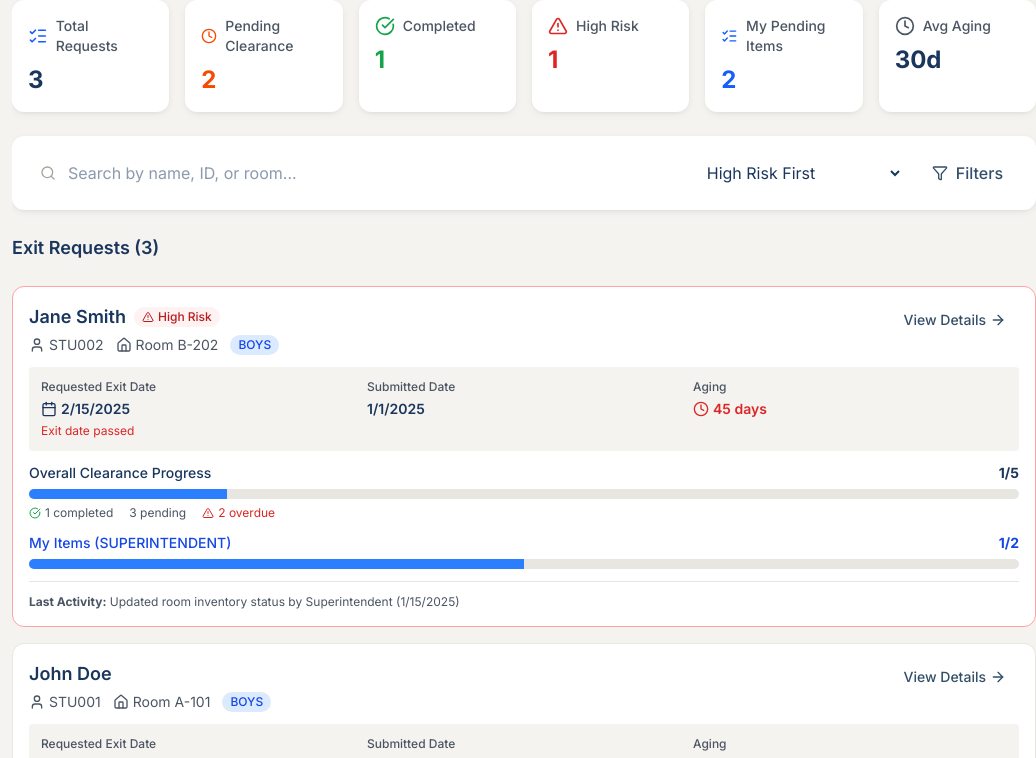
Test case: Task 20.3 - Admin Clearance Dashboards › ExitDashboard Component › should toggle filter panel when Filters button clicked
Click the button "Filters".
click(967, 173)  # box [915,152,1020,194]
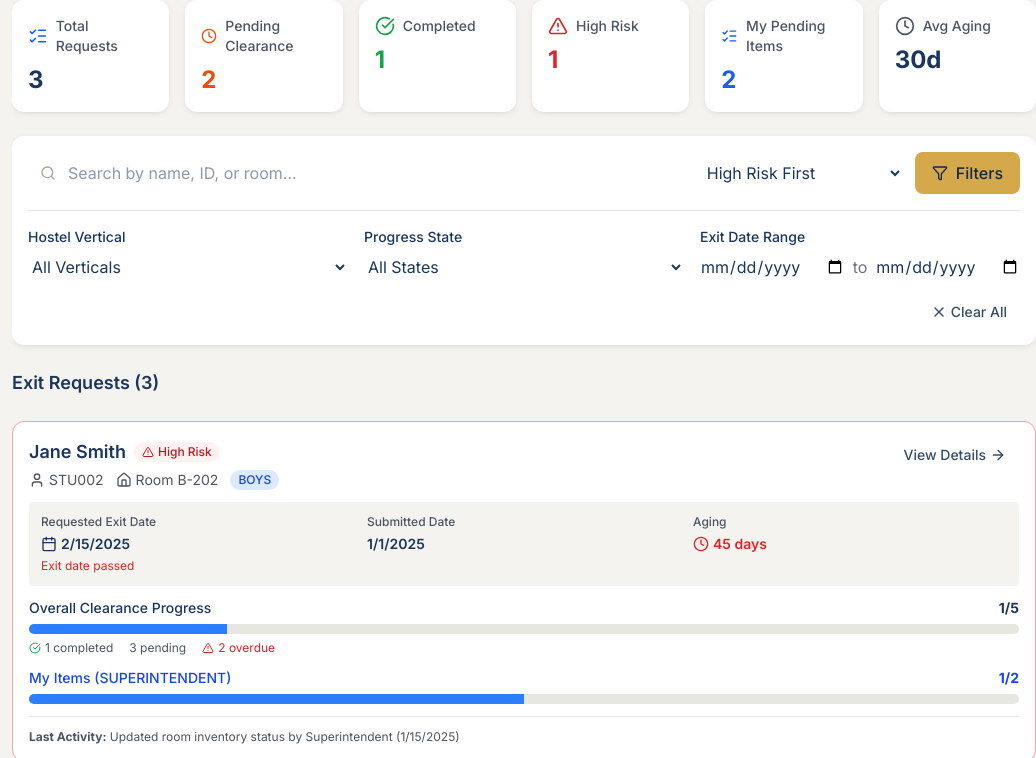
Expected: the text "Hostel Vertical" is shown, [28,228,126,245]
Expected: the text "Progress State" is shown, [364,228,462,245]
